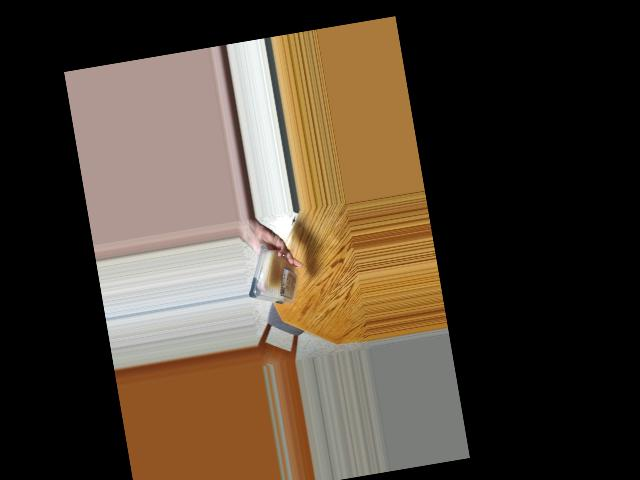cheese: (246, 246, 302, 308)
